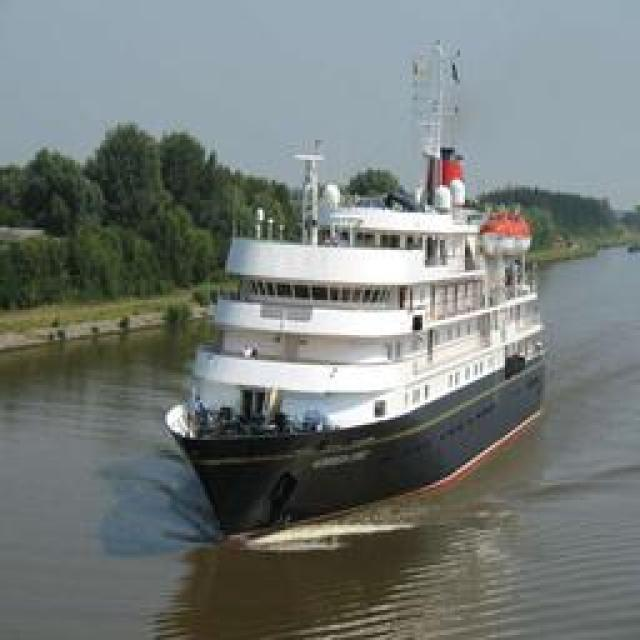ship2: (165, 42, 550, 538)
